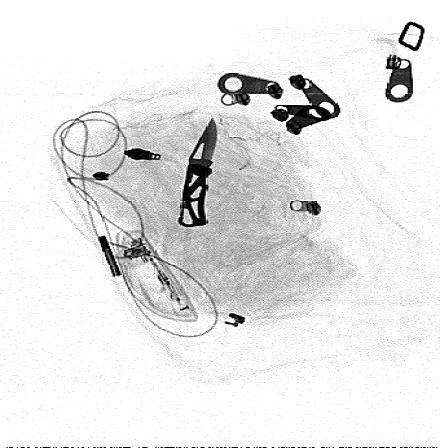Knife: (176, 116, 218, 229)
